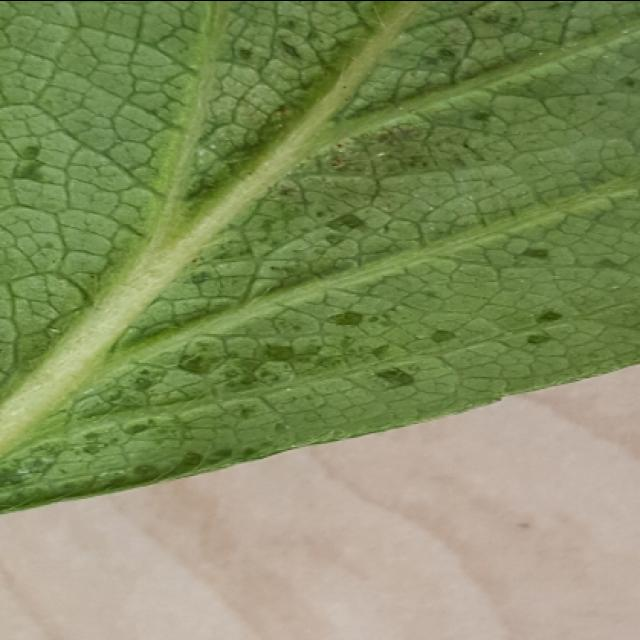Angular Leafspot: (0, 2, 638, 513)
